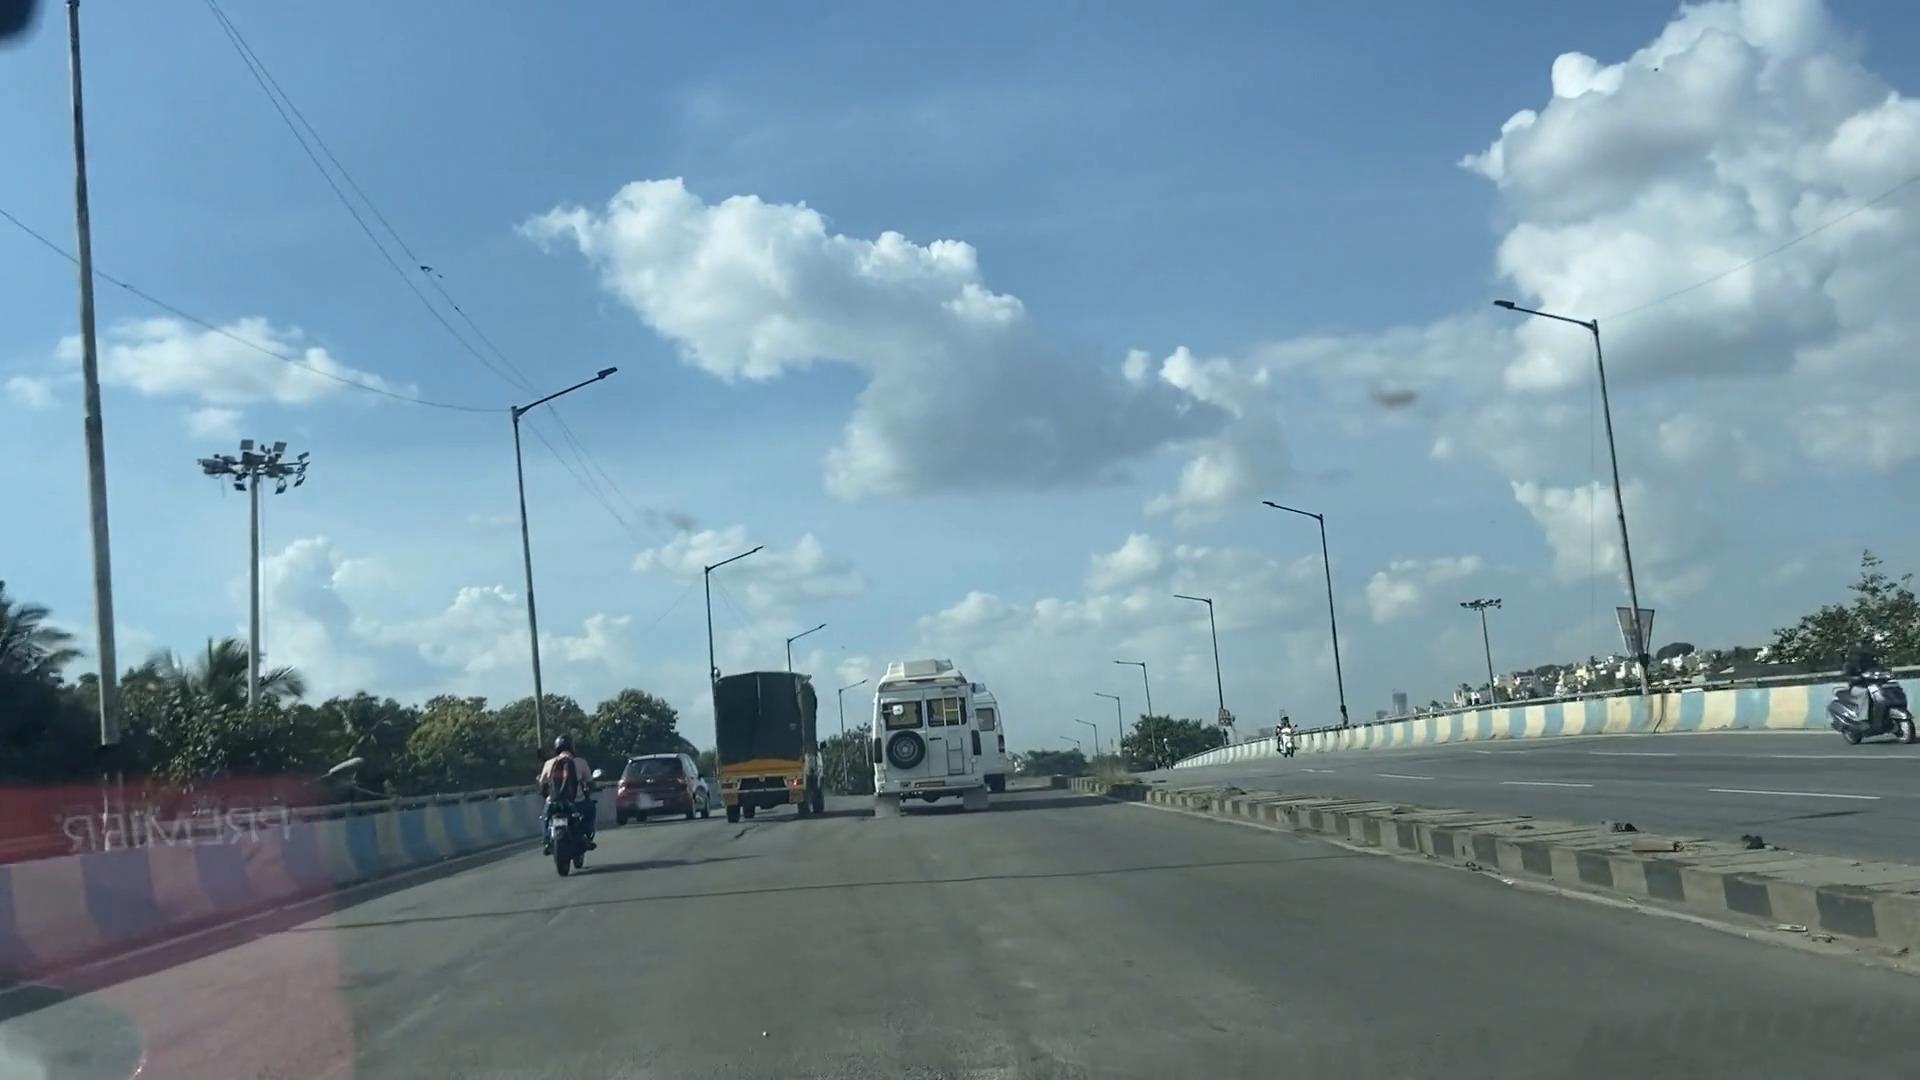HMV: (686, 652, 835, 823), (872, 646, 1004, 807)
LMV: (520, 718, 615, 877), (612, 740, 711, 832)
RoadDamages: (694, 910, 1163, 1080)
